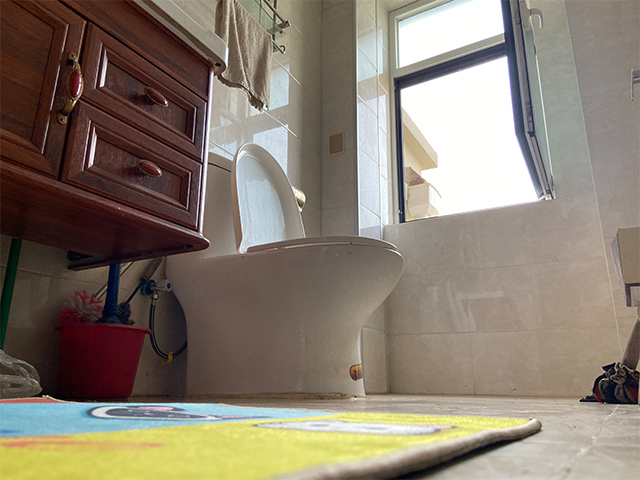carpet: (1, 393, 544, 479)
closestool: (165, 142, 405, 402)
